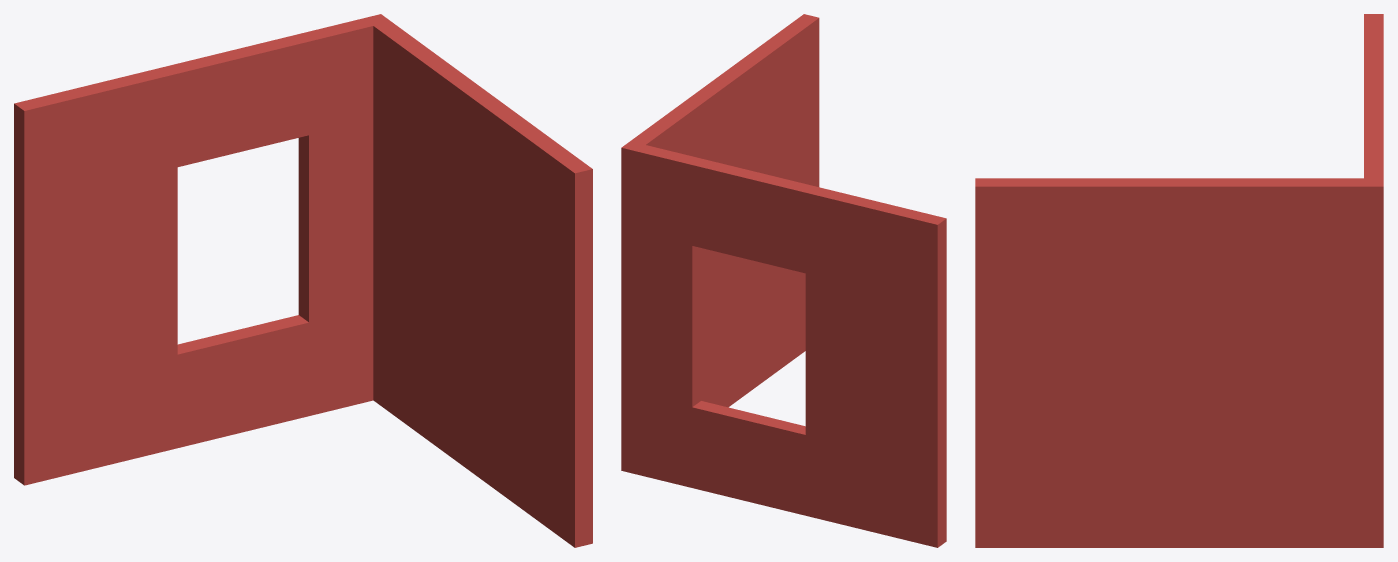
Rendered from Wal_7_Corner_D.fbx.
3 views of the same model, side by side, from view 1: azimuth 30°, elevation 25°; view 2: azimuth 150°, elevation 25°; view 3: azimuth 270°, elevation 25° (orthographic). The views are drawn at different scales.
Parts seen in each view (by area): view 1: polySurface48; view 2: polySurface48; view 3: polySurface48.
Boxes of the visible parts, x1,y1,x2,y2 form: polySurface48: (14,14,592,547); polySurface48: (621,14,946,547); polySurface48: (975,14,1383,547).
Size of the model in its own units: 4.1 by 4 by 4.1.
1 material, 1 textured.
